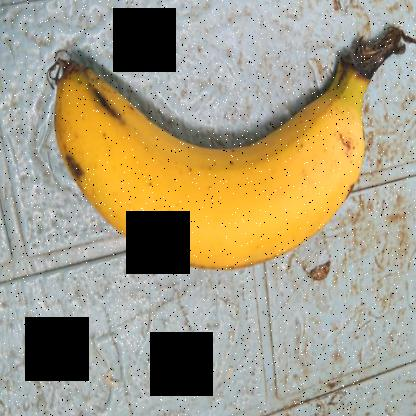freshripe: (48, 52, 371, 284)
